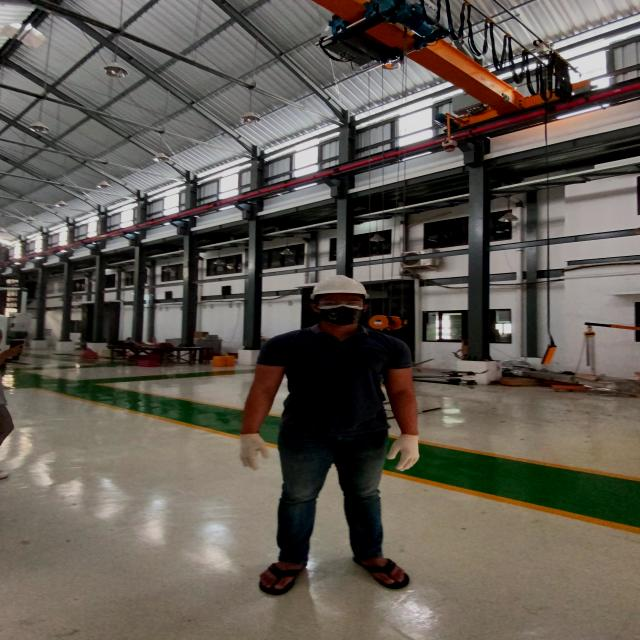face_mask: (318, 296, 364, 325)
glasses: (312, 298, 366, 310)
hand_glove: (381, 434, 428, 476), (232, 431, 272, 471)
head_helmet: (309, 273, 367, 296)
person: (230, 273, 438, 606)
